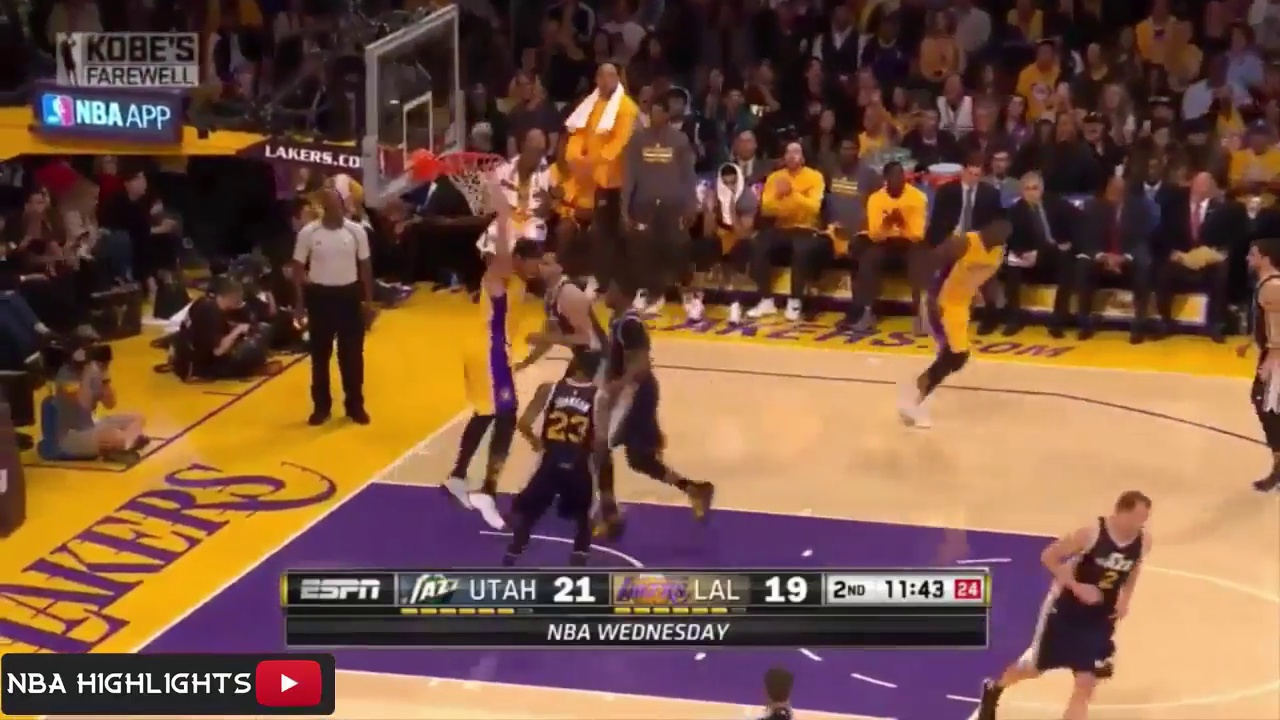jazz: (987, 492, 1170, 719), (602, 274, 714, 531), (514, 355, 609, 570), (525, 251, 604, 381), (1245, 236, 1280, 495)
lakers: (438, 171, 544, 527), (895, 217, 1018, 426)
